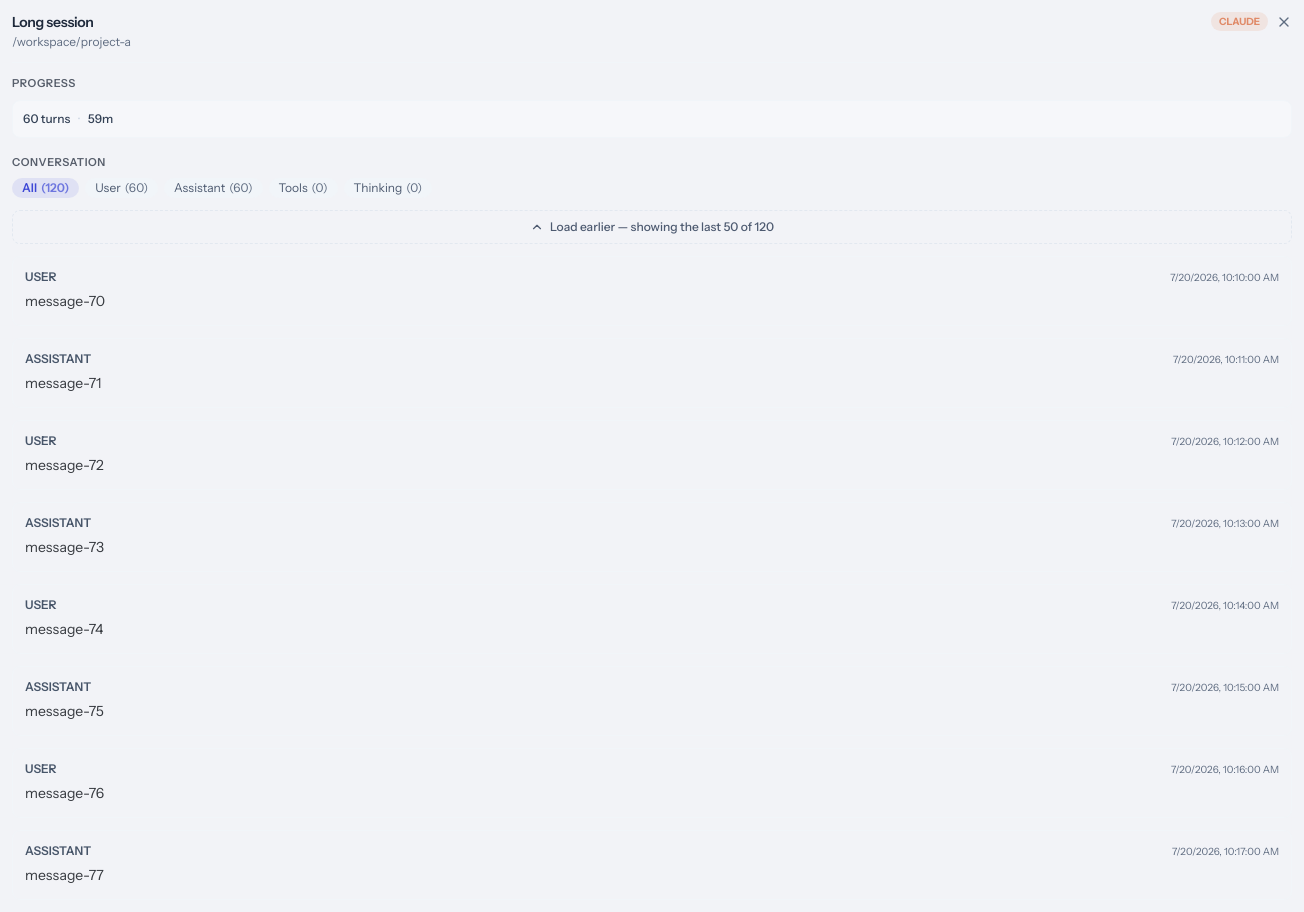
Test case: SessionDetailPanel transcript window › earlier messages load on request
The image size is (1304, 912).
Click the button "Load earlier — showing the last 50 of 120" at [652, 227], box 12,210 -> 1292,244
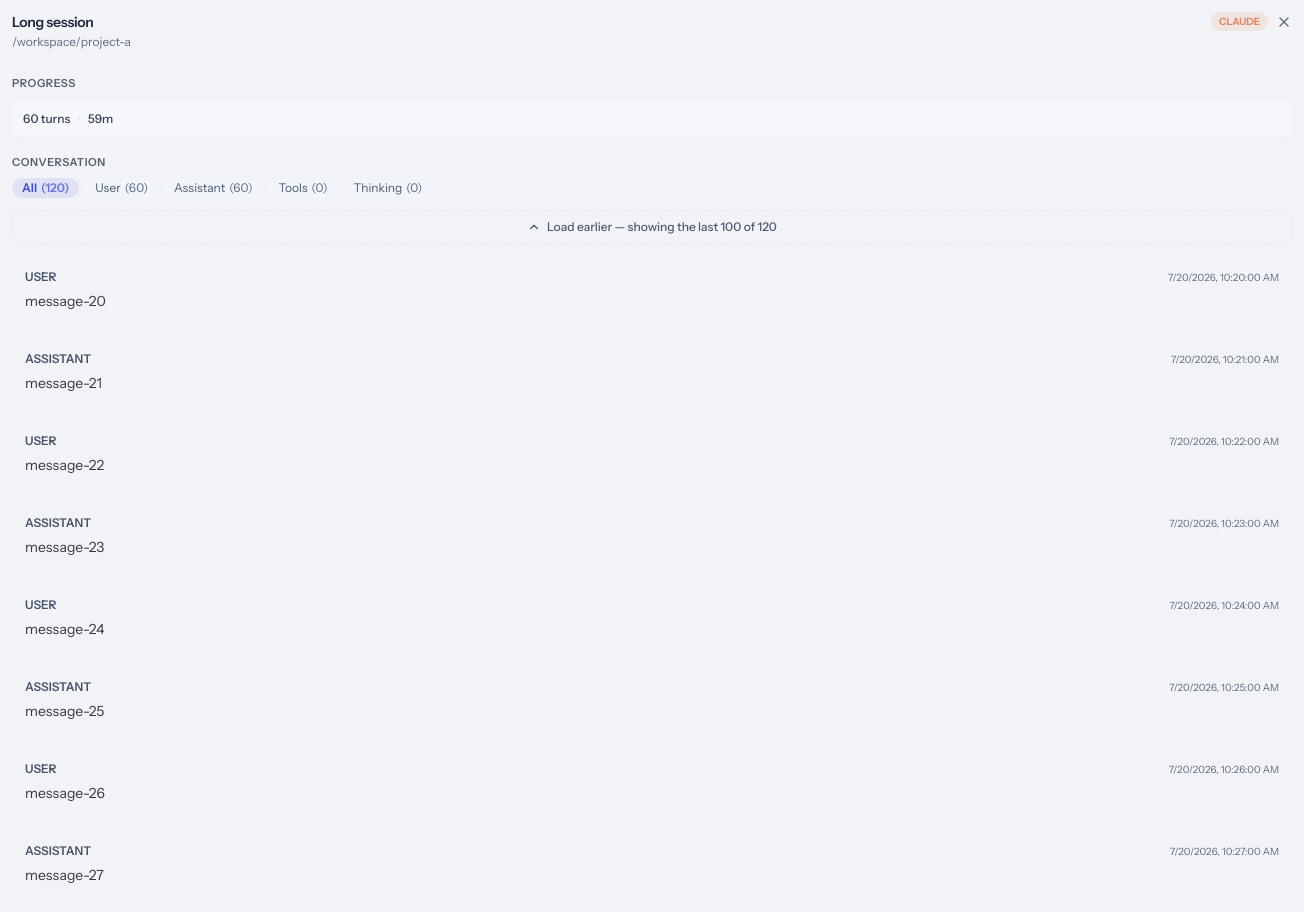
Expected: the button "Load earlier — showing the last 100 of 120" is shown, 12,210 -> 1292,244
